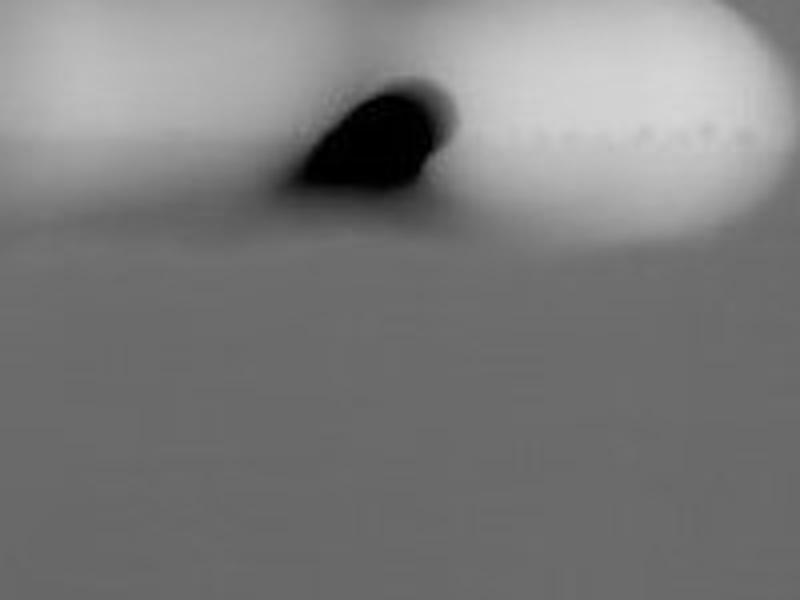defect: (299, 82, 445, 192), (730, 128, 761, 151), (632, 121, 654, 140), (698, 120, 715, 135)
